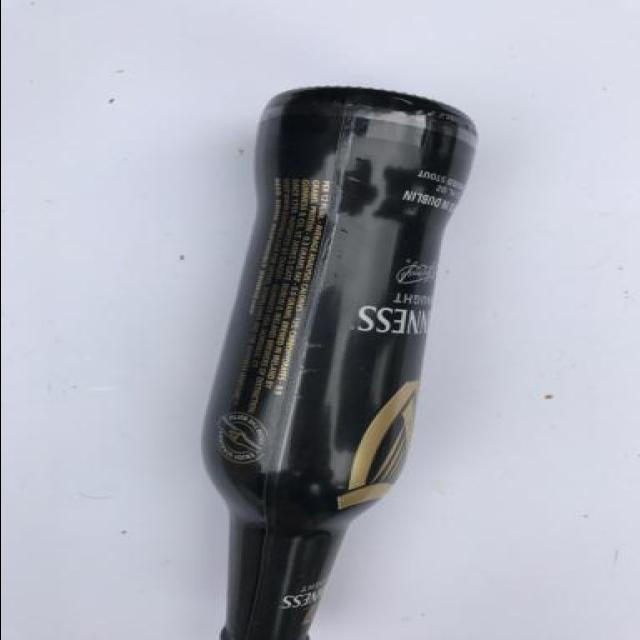litter: (182, 85, 482, 639)
